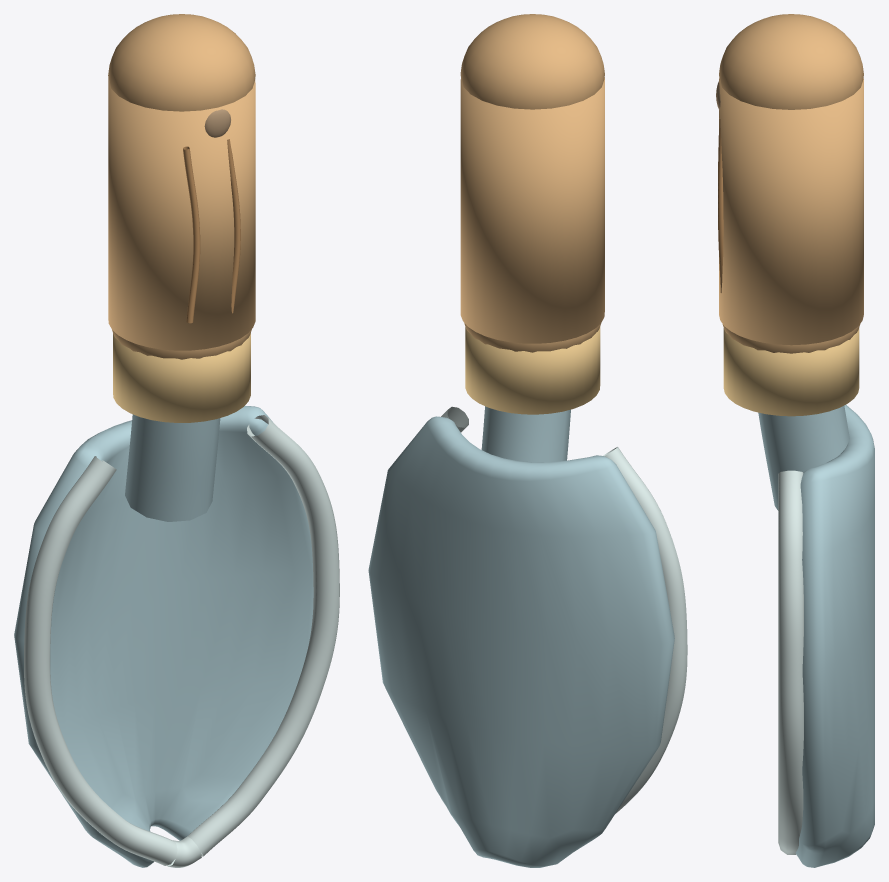
Rendered from tool_trowel.glb.
The picture shows the model from 3 angles, left to right: view 1: azimuth 30°, elevation 25°; view 2: azimuth 150°, elevation 25°; view 3: azimuth 270°, elevation 25°; orthographic projection. The views are drawn at different scales.
Parts seen in each view (by area): view 1: Trowel | curved scoop, Trowel | wooden grip, Trowel | rolled rim.001, Trowel | rolled rim, Trowel | grip cap, Trowel | ferrule, Trowel | neck, Trowel | grain, Trowel | grip base, Trowel | grain.001, Trowel | rounded toe; view 2: Trowel | curved scoop, Trowel | wooden grip, Trowel | grip cap, Trowel | ferrule, Trowel | rolled rim, Trowel | neck, Trowel | grip base; view 3: Trowel | wooden grip, Trowel | curved scoop, Trowel | grip cap, Trowel | rolled rim.001, Trowel | ferrule, Trowel | neck, Trowel | grip base, Trowel | grain.001.
Part boxes in pixels (box(x1,y1,x2,y2)): Trowel | curved scoop: box(14, 406, 313, 867); Trowel | wooden grip: box(108, 78, 255, 350); Trowel | rolled rim.001: box(188, 415, 339, 856); Trowel | rolled rim: box(24, 456, 177, 865); Trowel | grip cap: box(108, 14, 255, 111); Trowel | ferrule: box(113, 333, 250, 422); Trowel | neck: box(125, 414, 220, 521); Trowel | grain: box(183, 146, 200, 323); Trowel | grip base: box(112, 329, 251, 359); Trowel | grain.001: box(227, 139, 240, 313); Trowel | rounded toe: box(167, 836, 201, 867); Trowel | curved scoop: box(368, 416, 674, 867); Trowel | wooden grip: box(460, 77, 604, 343); Trowel | grip cap: box(460, 14, 604, 109); Trowel | ferrule: box(465, 327, 600, 414); Trowel | rolled rim: box(603, 447, 687, 813); Trowel | neck: box(481, 406, 570, 462); Trowel | grip base: box(464, 323, 600, 352); Trowel | wooden grip: box(719, 78, 863, 345); Trowel | curved scoop: box(795, 405, 874, 867); Trowel | grip cap: box(719, 14, 863, 109); Trowel | rolled rim.001: box(778, 470, 803, 854); Trowel | ferrule: box(723, 328, 859, 416); Trowel | neck: box(758, 406, 849, 510); Trowel | grip base: box(722, 324, 860, 353); Trowel | grain.001: box(718, 118, 723, 292).
Bounding box in the file's own units: 0.6148 × 1.59 × 0.276.
